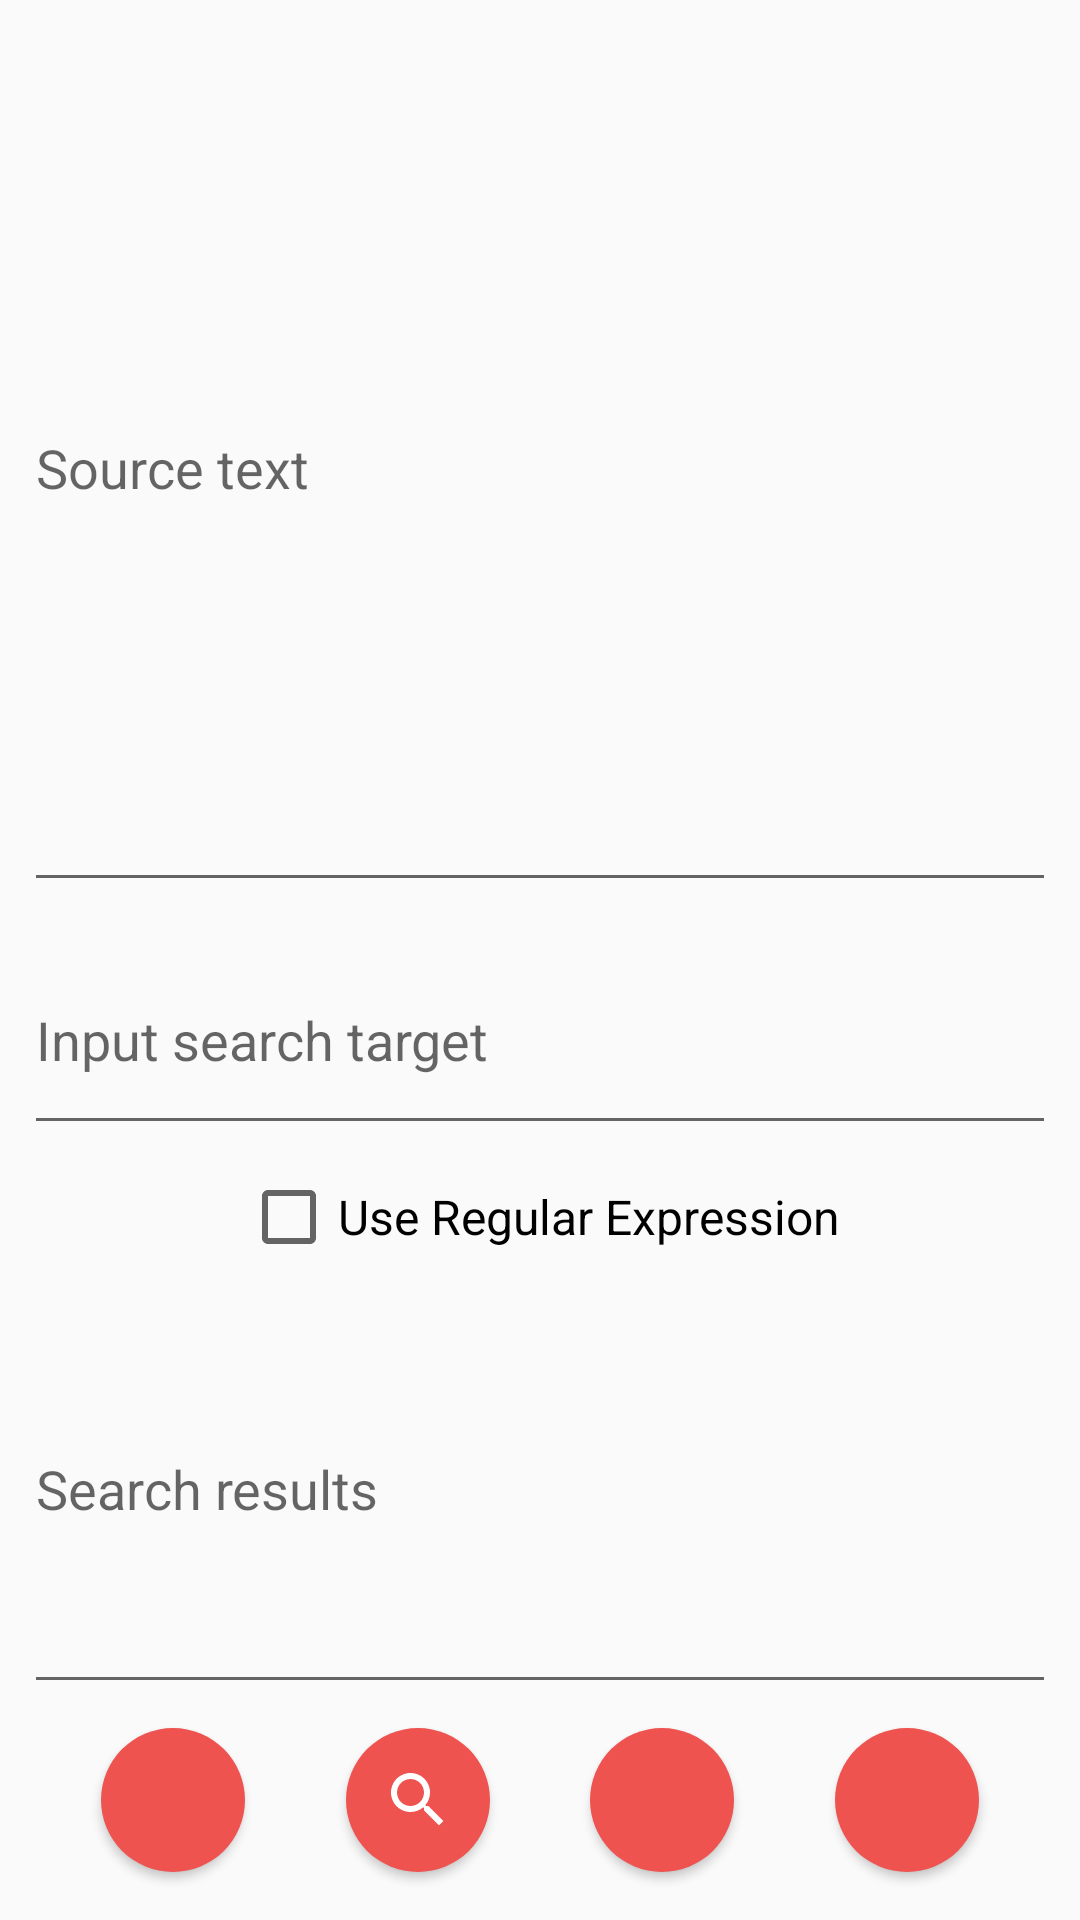

Named icons in this screenshot (1080x1920) and their bounding boxes, BBox(x1, y1, x2, y2):
Search all: BBox(346, 1728, 490, 1872)
